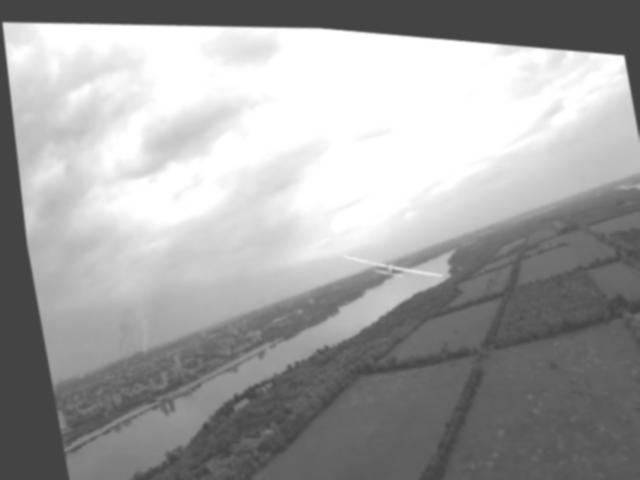hedef: (326, 231, 439, 292)
